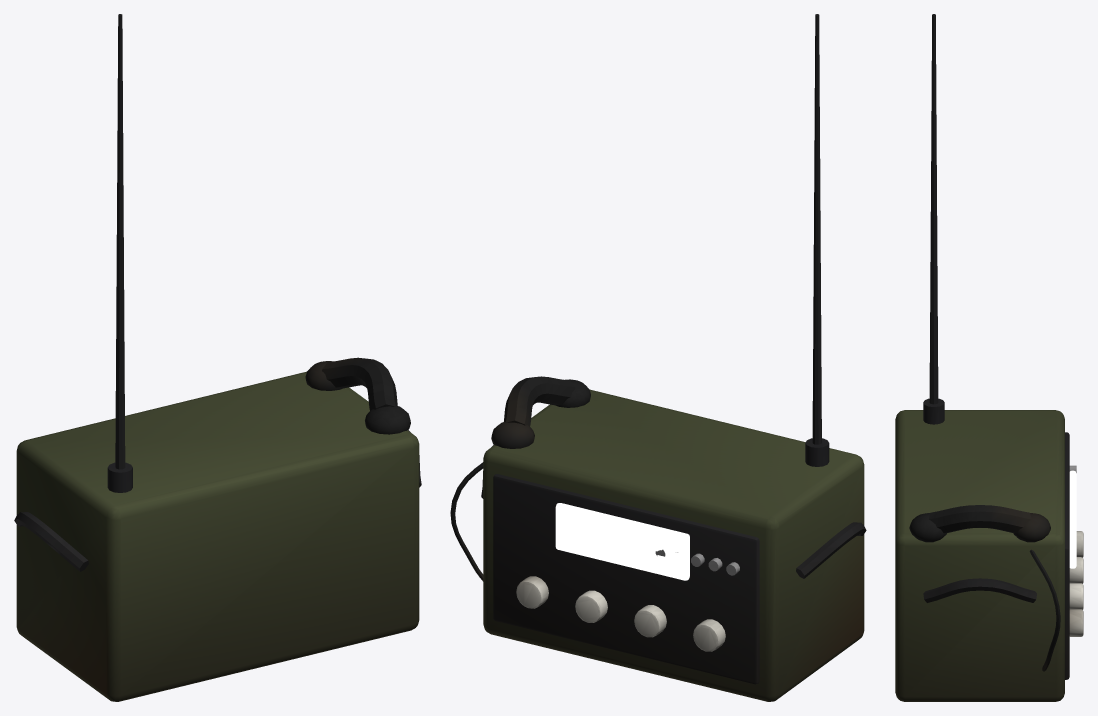
File: Radio.glb
The picture shows the model from 3 angles, left to right: view 1: azimuth 30°, elevation 25°; view 2: azimuth 150°, elevation 25°; view 3: azimuth 270°, elevation 25°; orthographic projection. The views are drawn at different scales.
Visible parts, largest first — view 1: Radio_paint_olive, Radio_metal_dark, Radio_plastic_black; view 2: Radio_paint_olive, Radio_metal_dark, Radio_flame, Radio_plastic_black, Radio_ceramic; view 3: Radio_paint_olive, Radio_metal_dark, Radio_plastic_black, Radio_ceramic, Radio_flame.
Boxes of the visible parts, x1,y1,x2,y2 form: Radio_paint_olive: (16,371,419,701); Radio_metal_dark: (14,14,421,571); Radio_plastic_black: (305,357,410,434); Radio_paint_olive: (483,389,864,701); Radio_metal_dark: (481,14,866,684); Radio_flame: (555,503,689,580); Radio_plastic_black: (450,376,590,581); Radio_ceramic: (516,576,725,651); Radio_paint_olive: (895,410,1064,701); Radio_metal_dark: (923,14,1069,679); Radio_plastic_black: (909,505,1060,671); Radio_ceramic: (1069,531,1083,636); Radio_flame: (1069,470,1076,568).
Bounding box in the file's own units: 2.45 × 4.1 × 1.22.
